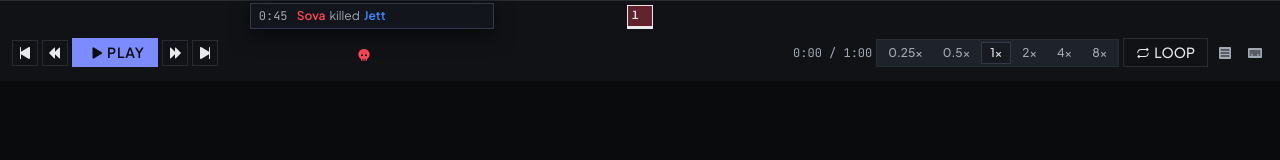
Test: the rail's marks › clears when a scrub starts
The width and height of the screenshot is (1280, 160).
Press the mouse on the element with class "rail" at (505, 53), box [222,33,789,73]
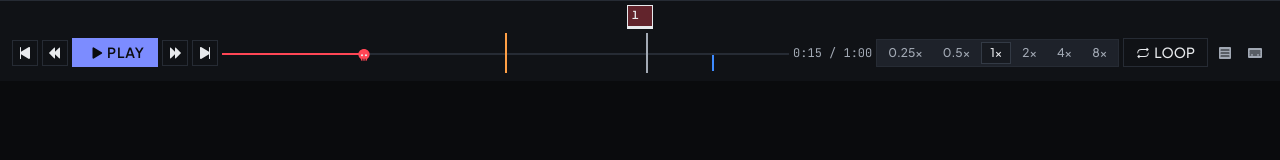
Now the element with class "rail-tip" is gone
